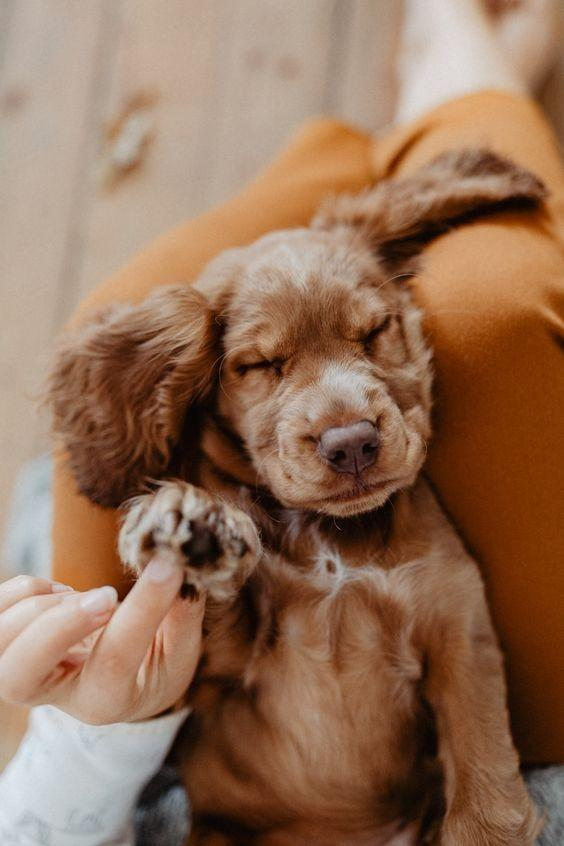puppy-dog: (30, 146, 555, 845)
